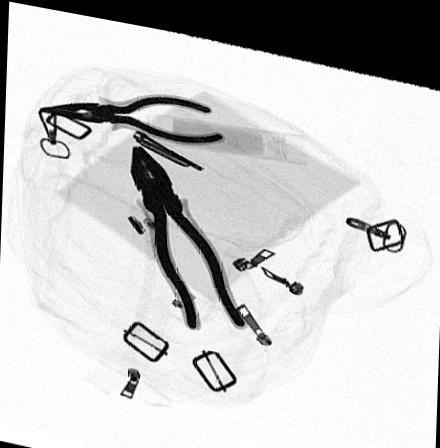Pliers: (126, 135, 250, 322), (34, 88, 226, 136)
